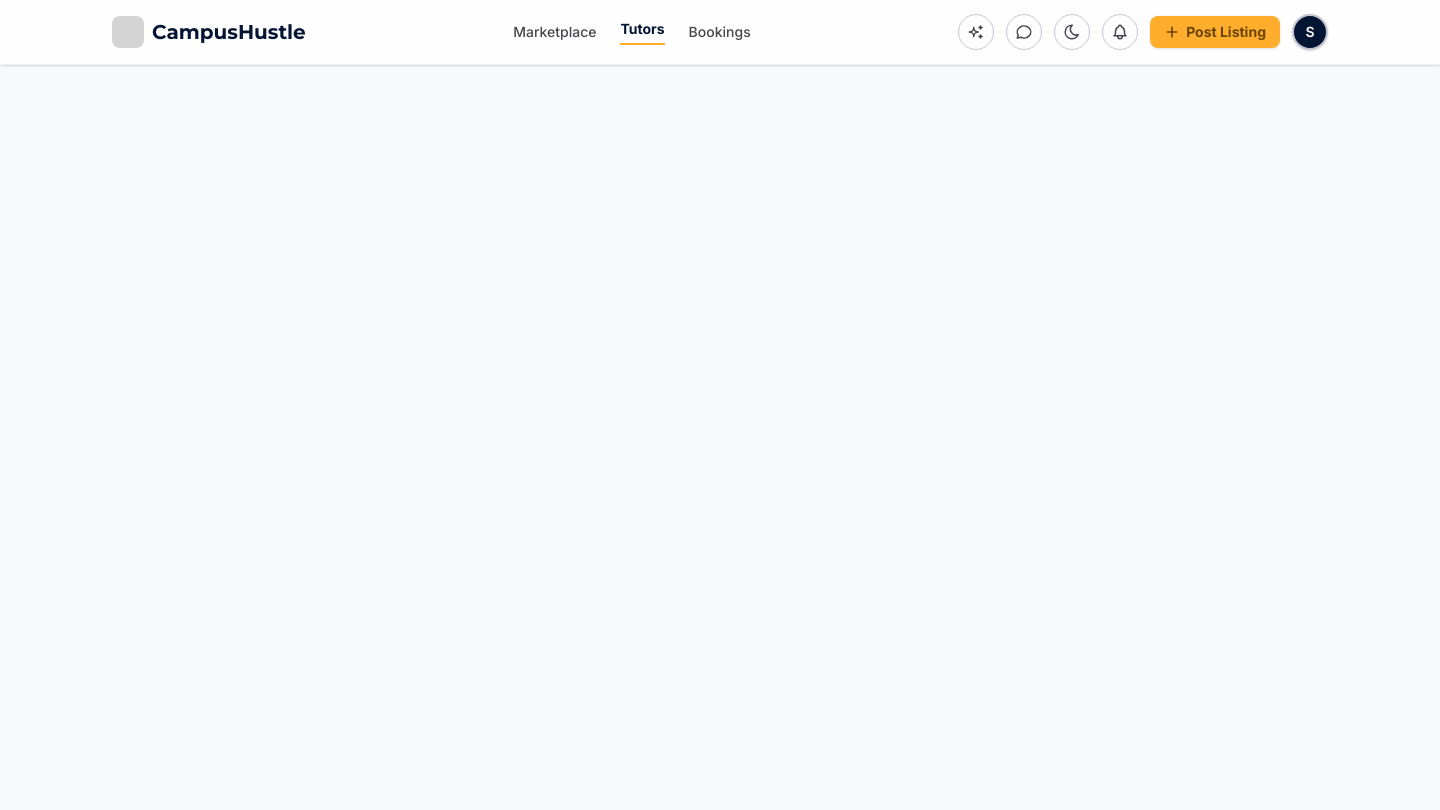
Test case: AppNavbar theme toggle › switches to dark mode on click and back to light on second click
The width and height of the screenshot is (1440, 810).
Click the button named "Switch to dark mode".
click(1072, 32)  # box [1054,14,1090,50]
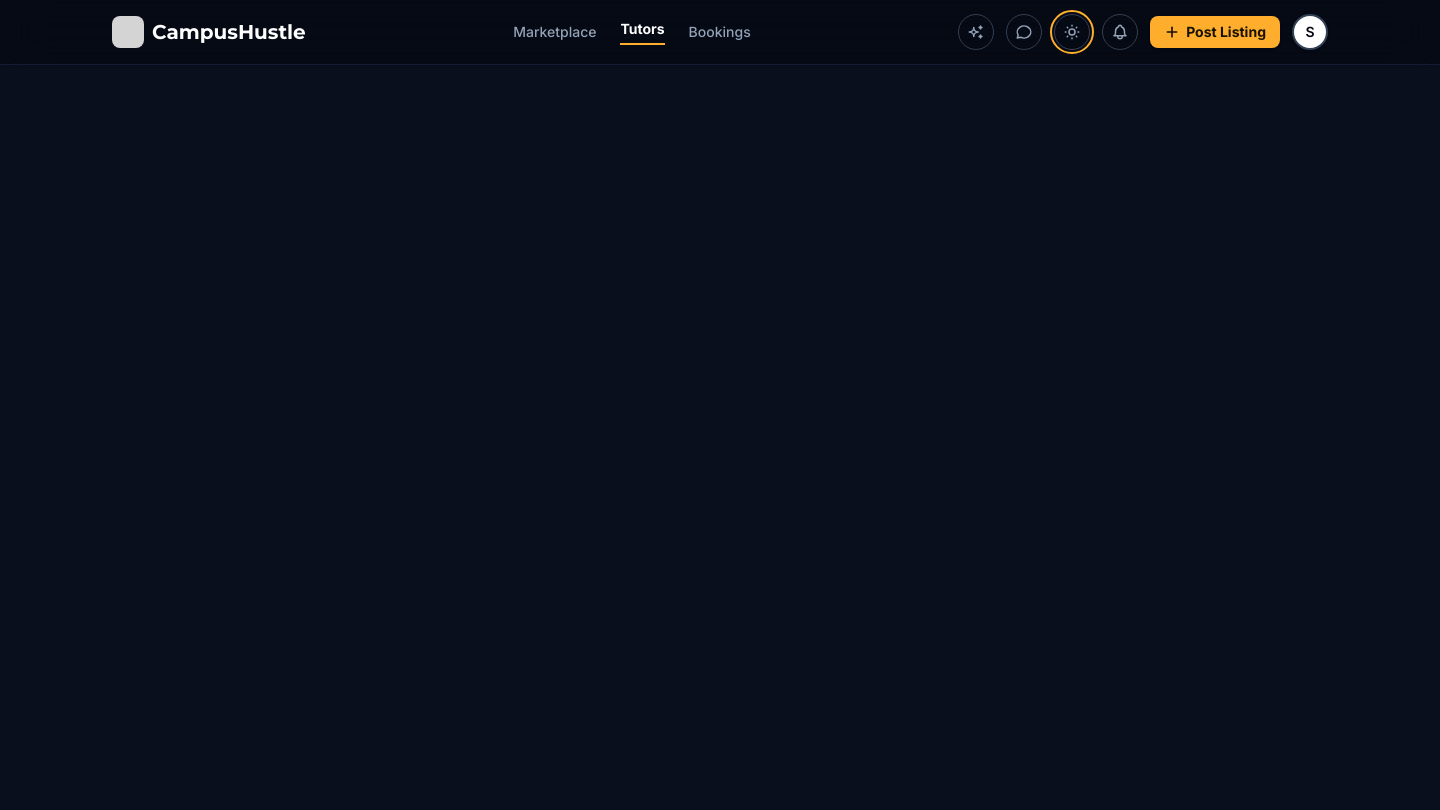
expect the button named "Switch to light mode" is shown: met
Click the button named "Switch to light mode".
click(1072, 32)  # box [1054,14,1090,50]
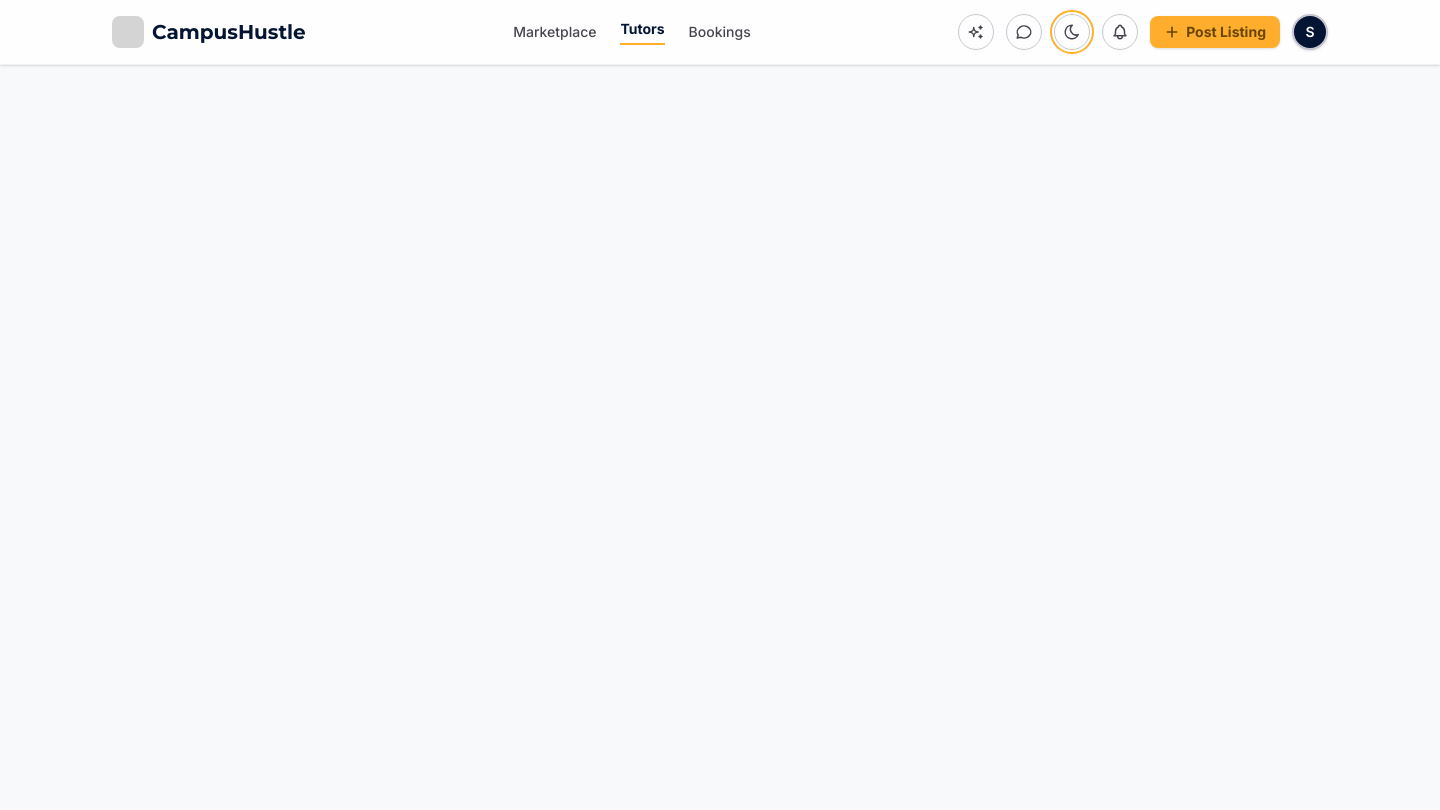
expect the button named "Switch to dark mode" is shown: met, box [1054,14,1090,50]
